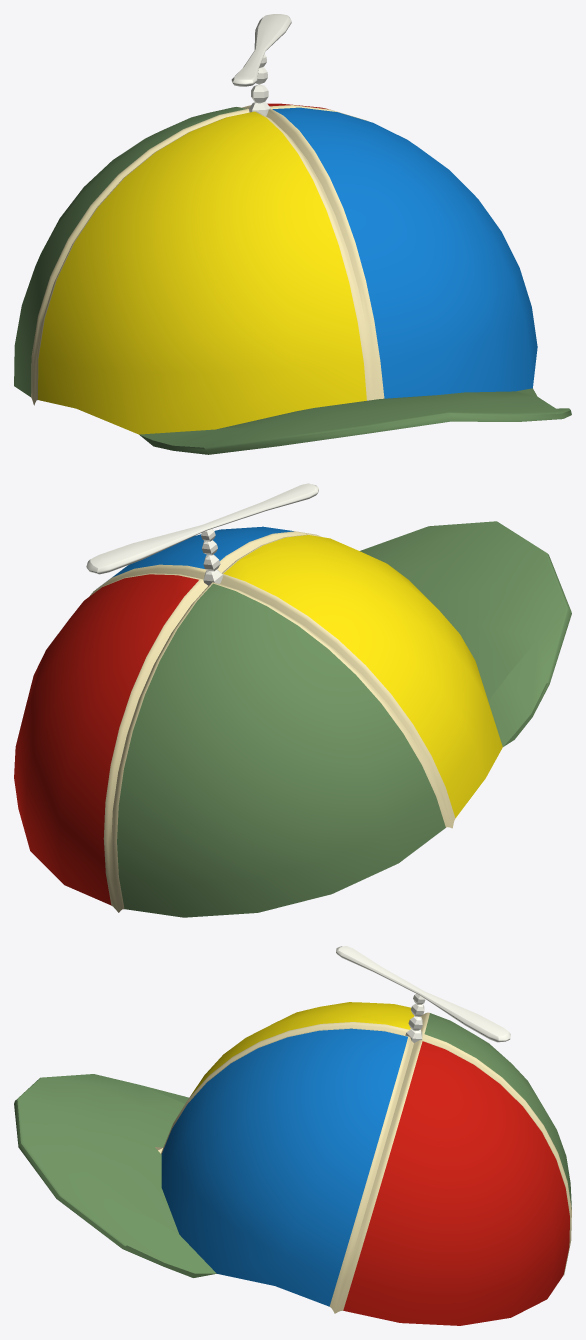
File: hat6.fbx
3 renders of one model, top to bottom at view 1: azimuth 30°, elevation 25°; view 2: azimuth 150°, elevation 25°; view 3: azimuth 270°, elevation 25°, orthographic. The views are drawn at different scales.
Visible parts, largest first — view 1: Hat7; view 2: Hat7; view 3: Hat7.
Boxes of the visible parts, <box> form: Hat7: <box>14,14,571,454</box>; Hat7: <box>14,483,571,917</box>; Hat7: <box>14,946,571,1325</box>.
Bounding box in the file's own units: 14.82 × 11.83 × 19.79.
